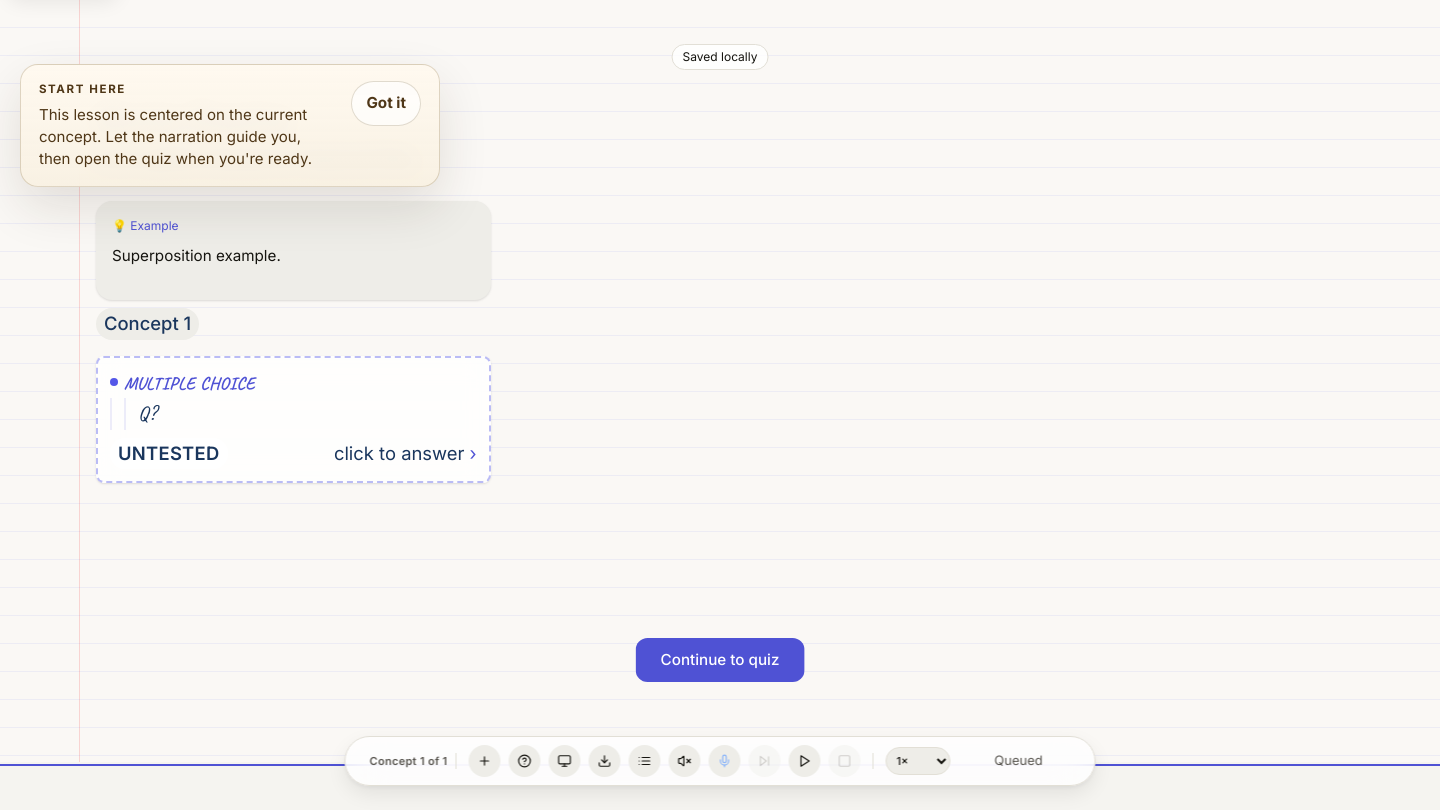
Scenario: CanvasPage › orientation cue › shows the first-open orientation cue in notebook mode after 450ms and dismisses it
Check: the text "Start here" is shown, box left=39, top=82, right=126, bottom=96
Click the button "Got it" at coordinates (386, 103), box left=351, top=81, right=421, bottom=126
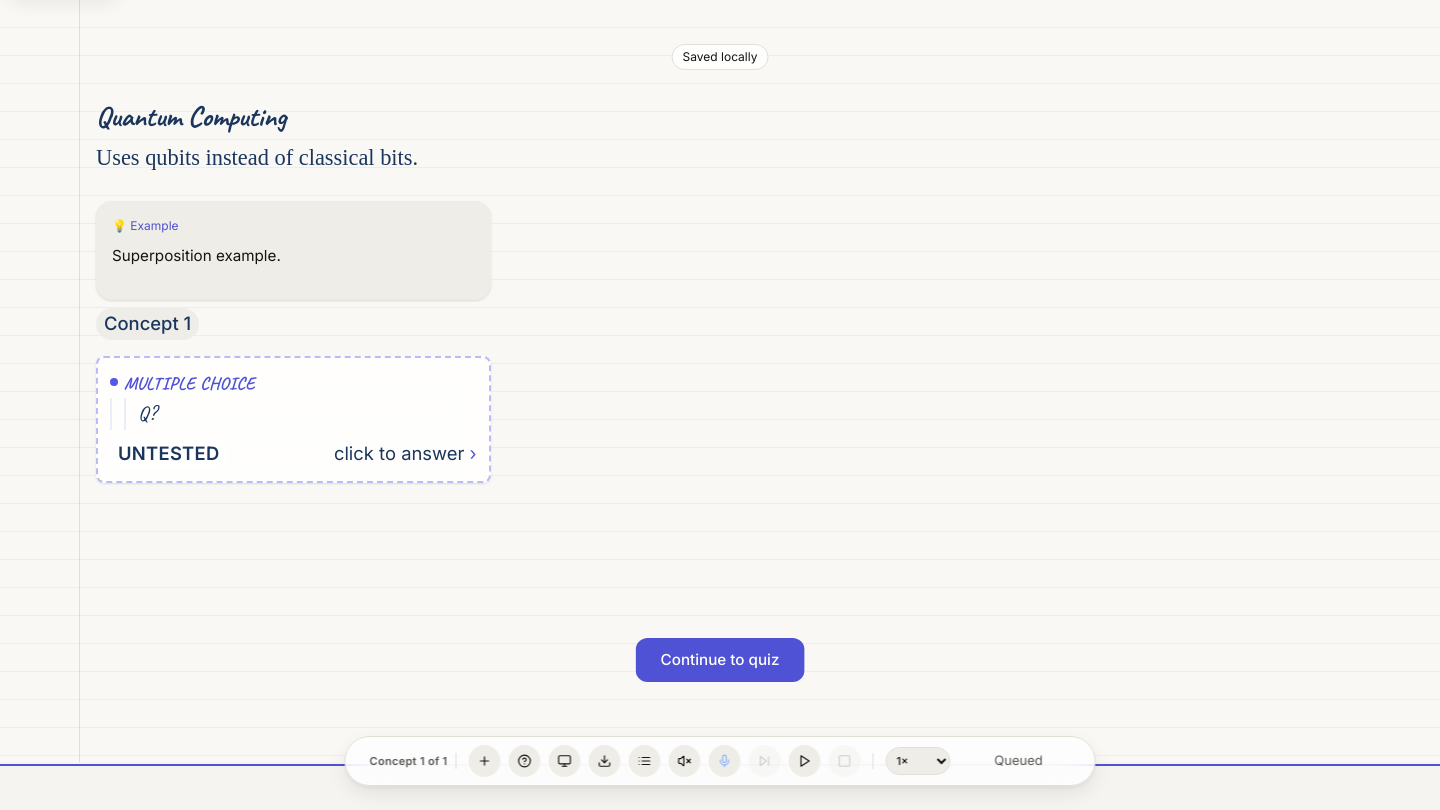
Check: the text "Start here" is gone
